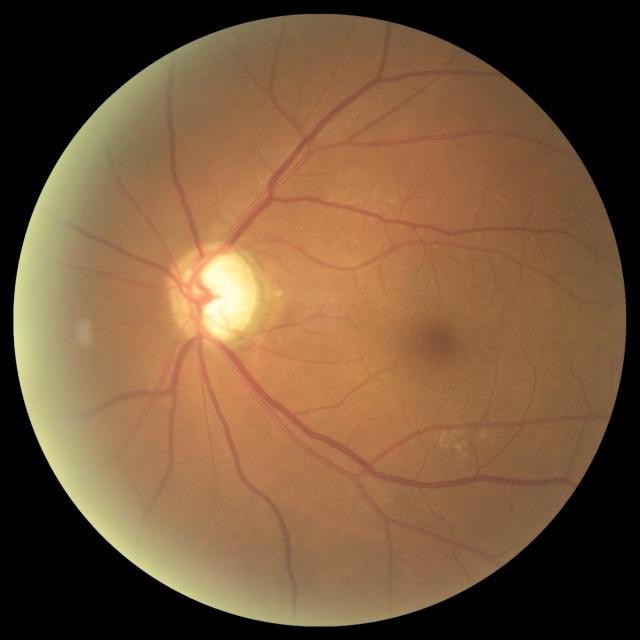OC: (187, 256, 250, 333)
OD: (167, 242, 260, 343)
